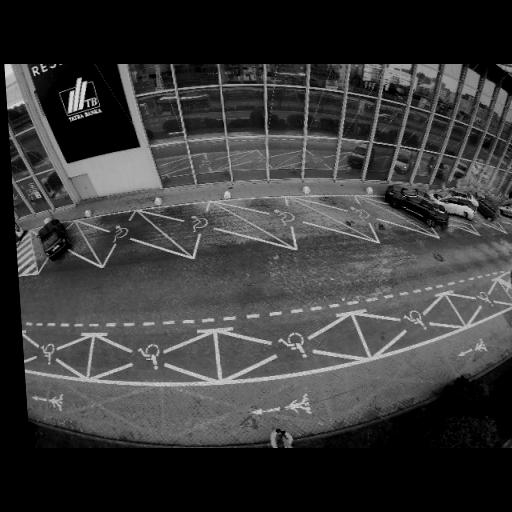busy: (428, 178, 485, 230), (385, 185, 448, 223), (463, 183, 503, 223), (35, 220, 72, 257), (495, 197, 512, 225)
